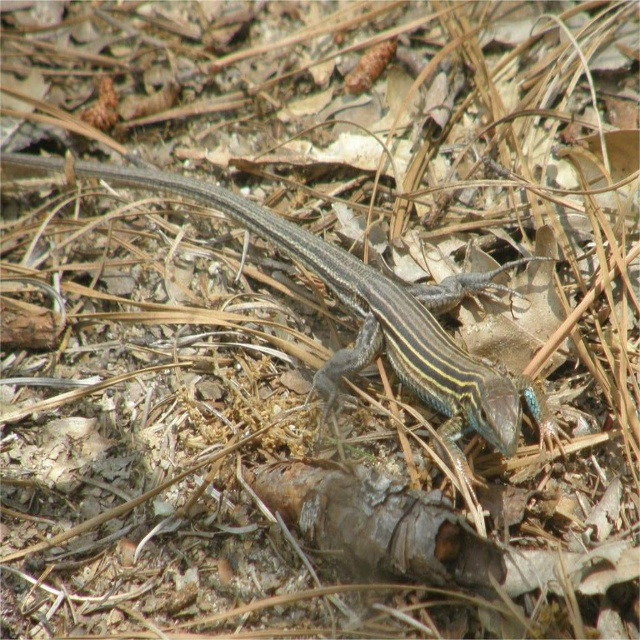Lizard: (3, 160, 565, 506)
